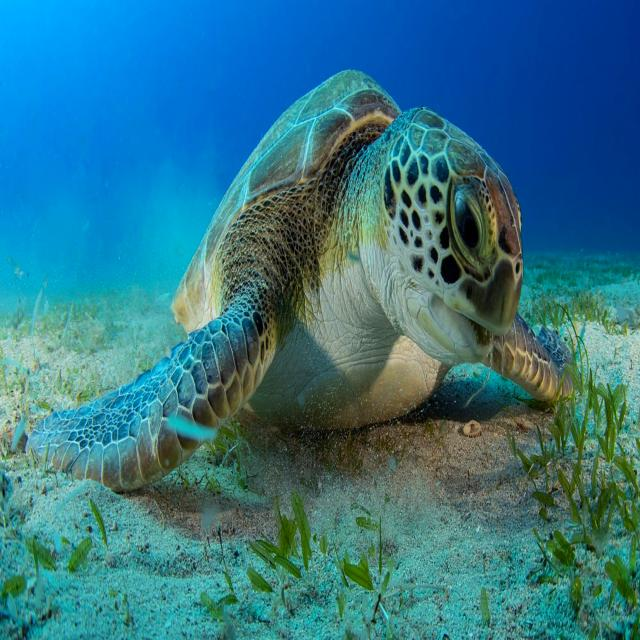turtle: (27, 70, 570, 492)
